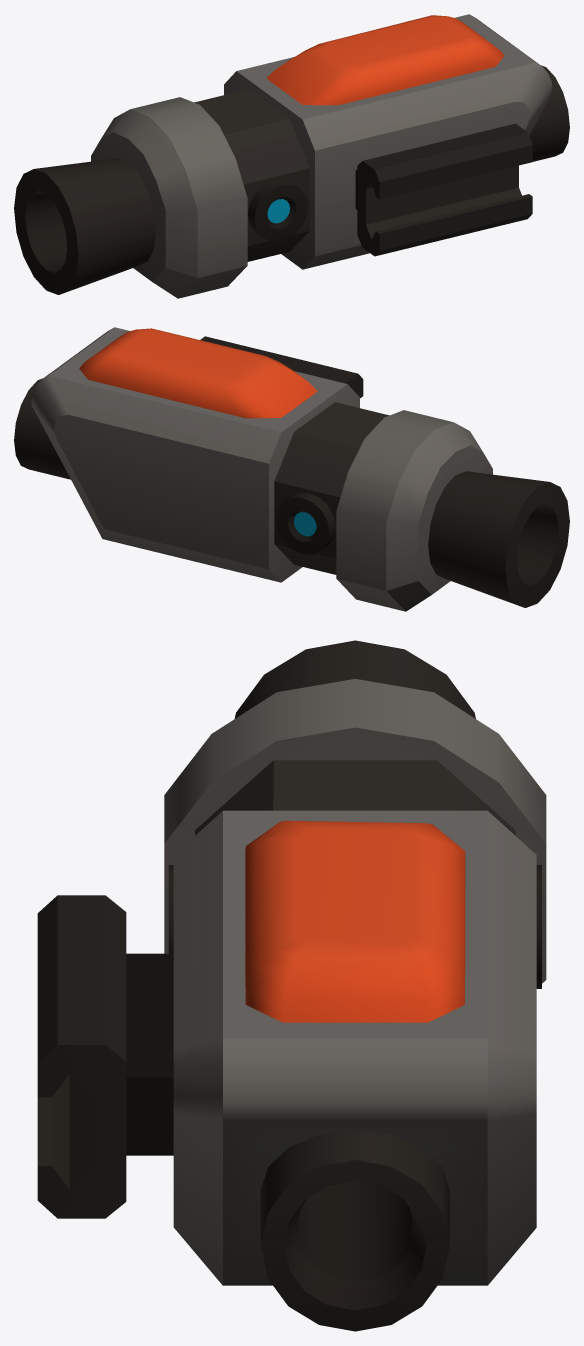
File: Sight_03.fbx
The picture shows the model from 3 angles, top to bottom: view 1: azimuth 30°, elevation 25°; view 2: azimuth 150°, elevation 25°; view 3: azimuth 270°, elevation 25°; orthographic projection. The views are drawn at different scales.
Visible parts, largest first — view 1: Sight_03; view 2: Sight_03; view 3: Sight_03.
Part boxes in pixels (<box>): Sight_03: <box>14,14,569,298</box>; Sight_03: <box>14,327,569,611</box>; Sight_03: <box>37,640,546,1331</box>.
Bounding box in the file's own units: 23.59 × 7.98 × 10.39.
